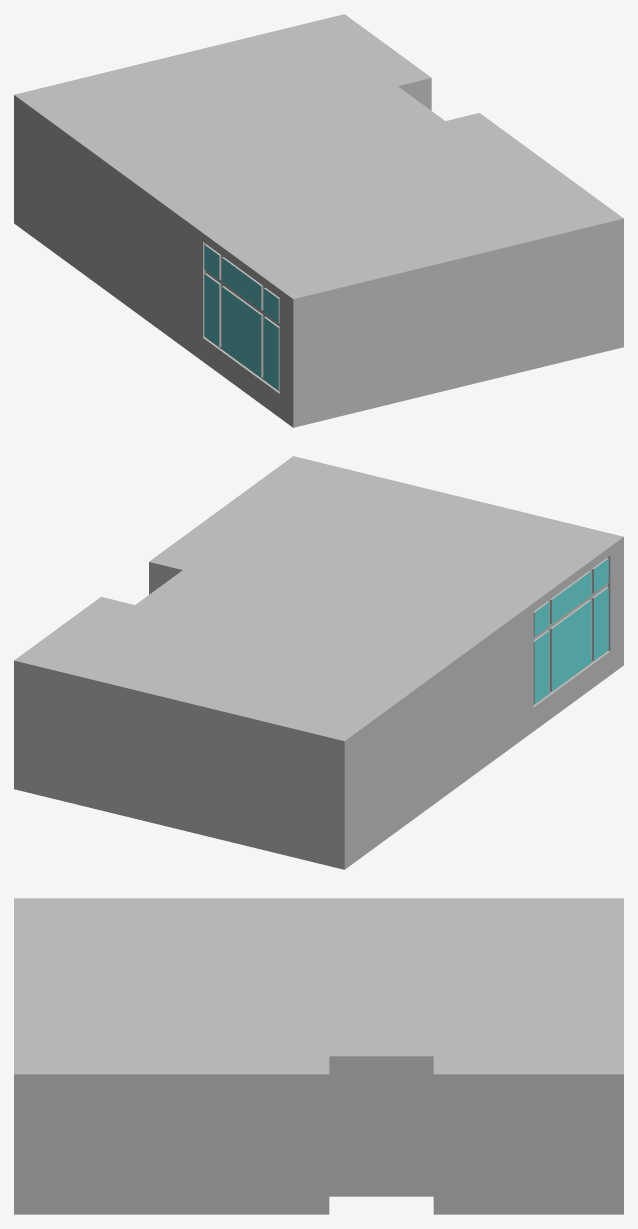
The model's file is Labo_para_mapear.fbx.
3 views of the same model, one above another, from view 1: azimuth 30°, elevation 25°; view 2: azimuth 150°, elevation 25°; view 3: azimuth 270°, elevation 25° (orthographic). The views are drawn at different scales.
Visible parts, largest first — view 1: Techo, Paredes, Ventana; view 2: Techo, Paredes, Ventana; view 3: Techo, Paredes.
Part boxes in pixels (left/top/right/bottom): Techo: left=14, top=14, right=623, bottom=298; Paredes: left=14, top=78, right=623, bottom=427; Ventana: left=203, top=242, right=279, bottom=393; Techo: left=14, top=456, right=623, bottom=740; Paredes: left=14, top=537, right=623, bottom=869; Ventana: left=533, top=555, right=610, bottom=707; Techo: left=14, top=898, right=623, bottom=1074; Paredes: left=14, top=1056, right=623, bottom=1214.
Bounding box in the file's own units: 1605 × 597 × 2348.
